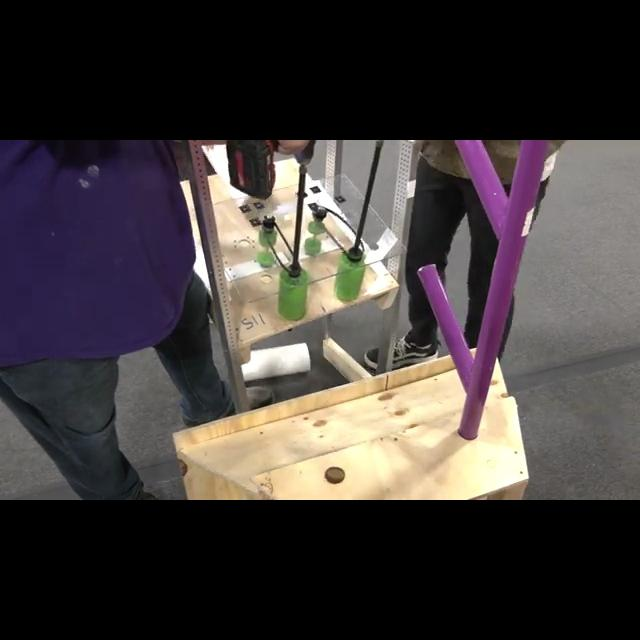CORAL: (239, 342, 311, 382)
